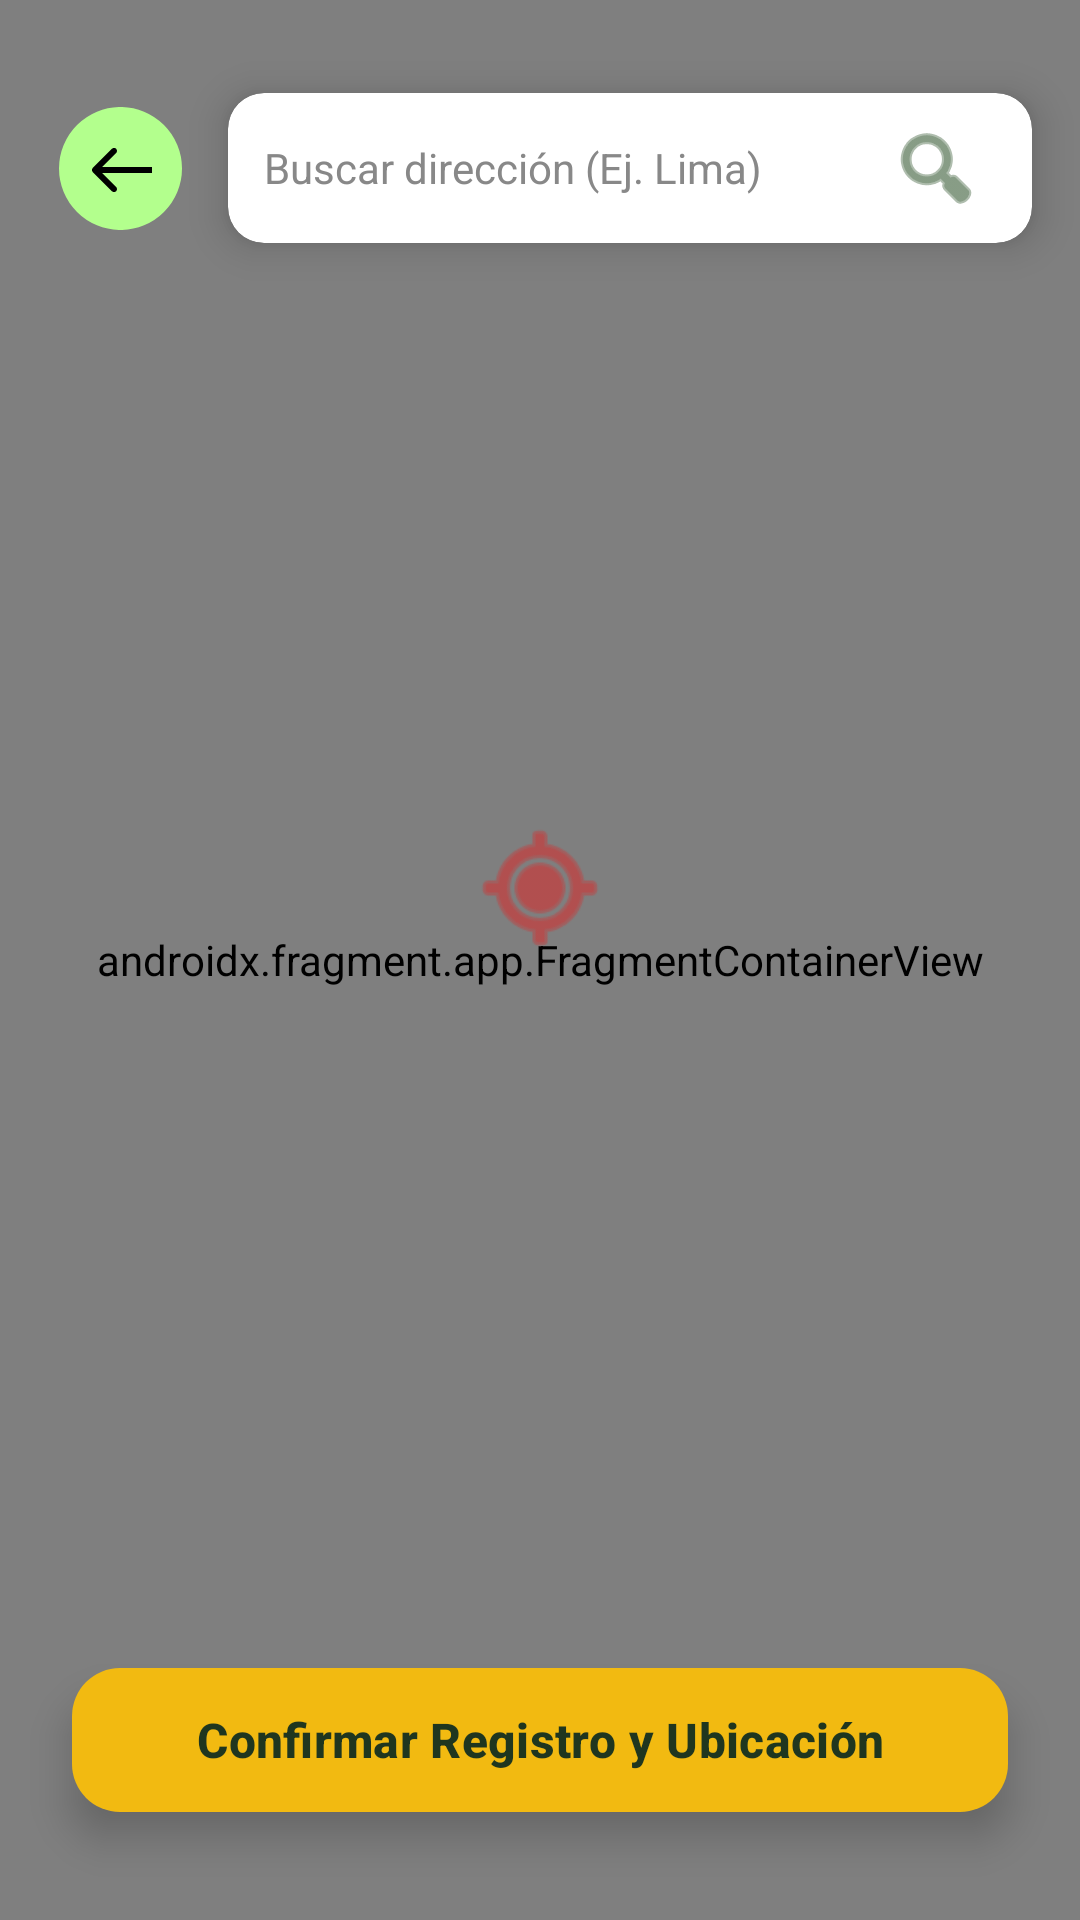

Screen size 1080w x 1920h. Icon name, then its box in pixels as (x1, y1, x2, y2):
Regresar: (59, 107, 182, 230)
